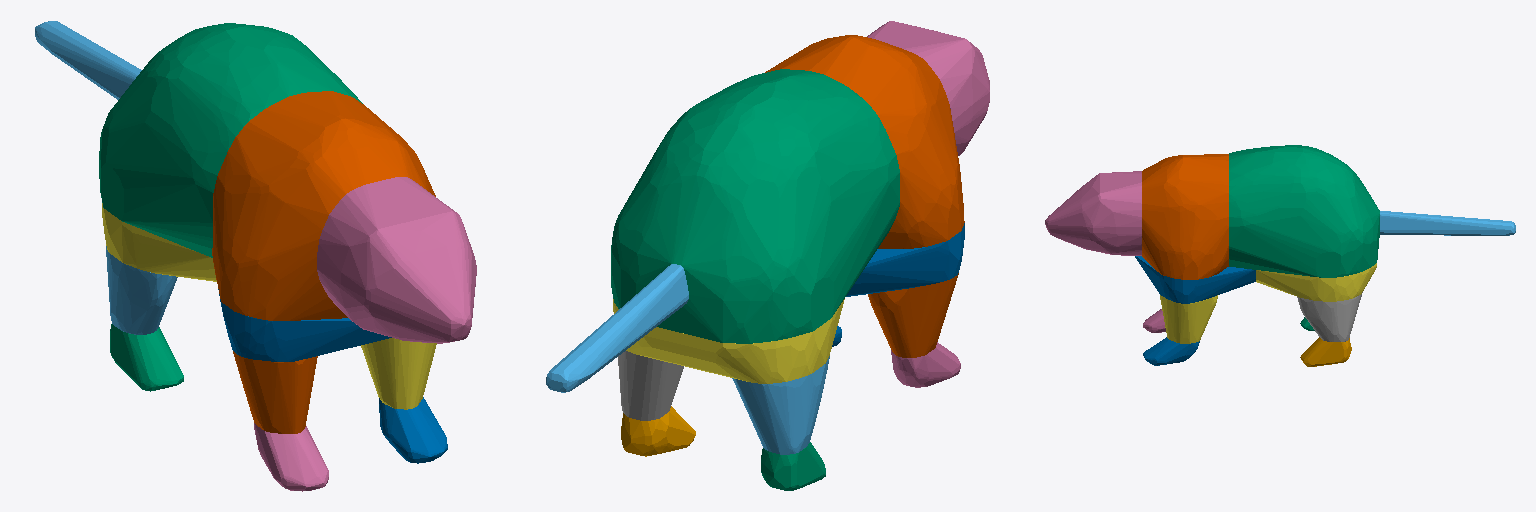
robot.urdf — sem-Bear-1629215db795111ba649bd1425725662:
<?xml version="1.0"?>
<robot name="sem-Bear-1629215db795111ba649bd1425725662">
  <link name="object_root"/>
  <link name="convex_piece_000">
    <visual><geometry><mesh filename="pieces/piece_000.obj"/></geometry></visual>
    <collision><geometry><mesh filename="pieces/piece_000.obj"/></geometry></collision>
  </link>
  <joint name="piece_joint_000" type="fixed">
    <parent link="object_root"/>
    <child link="convex_piece_000"/>
    <origin xyz="0 0 0" rpy="0 0 0"/>
  </joint>
  <link name="convex_piece_001">
    <visual><geometry><mesh filename="pieces/piece_001.obj"/></geometry></visual>
    <collision><geometry><mesh filename="pieces/piece_001.obj"/></geometry></collision>
  </link>
  <joint name="piece_joint_001" type="fixed">
    <parent link="object_root"/>
    <child link="convex_piece_001"/>
    <origin xyz="0 0 0" rpy="0 0 0"/>
  </joint>
  <link name="convex_piece_002">
    <visual><geometry><mesh filename="pieces/piece_002.obj"/></geometry></visual>
    <collision><geometry><mesh filename="pieces/piece_002.obj"/></geometry></collision>
  </link>
  <joint name="piece_joint_002" type="fixed">
    <parent link="object_root"/>
    <child link="convex_piece_002"/>
    <origin xyz="0 0 0" rpy="0 0 0"/>
  </joint>
  <link name="convex_piece_003">
    <visual><geometry><mesh filename="pieces/piece_003.obj"/></geometry></visual>
    <collision><geometry><mesh filename="pieces/piece_003.obj"/></geometry></collision>
  </link>
  <joint name="piece_joint_003" type="fixed">
    <parent link="object_root"/>
    <child link="convex_piece_003"/>
    <origin xyz="0 0 0" rpy="0 0 0"/>
  </joint>
  <link name="convex_piece_004">
    <visual><geometry><mesh filename="pieces/piece_004.obj"/></geometry></visual>
    <collision><geometry><mesh filename="pieces/piece_004.obj"/></geometry></collision>
  </link>
  <joint name="piece_joint_004" type="fixed">
    <parent link="object_root"/>
    <child link="convex_piece_004"/>
    <origin xyz="0 0 0" rpy="0 0 0"/>
  </joint>
  <link name="convex_piece_005">
    <visual><geometry><mesh filename="pieces/piece_005.obj"/></geometry></visual>
    <collision><geometry><mesh filename="pieces/piece_005.obj"/></geometry></collision>
  </link>
  <joint name="piece_joint_005" type="fixed">
    <parent link="object_root"/>
    <child link="convex_piece_005"/>
    <origin xyz="0 0 0" rpy="0 0 0"/>
  </joint>
  <link name="convex_piece_006">
    <visual><geometry><mesh filename="pieces/piece_006.obj"/></geometry></visual>
    <collision><geometry><mesh filename="pieces/piece_006.obj"/></geometry></collision>
  </link>
  <joint name="piece_joint_006" type="fixed">
    <parent link="object_root"/>
    <child link="convex_piece_006"/>
    <origin xyz="0 0 0" rpy="0 0 0"/>
  </joint>
  <link name="convex_piece_007">
    <visual><geometry><mesh filename="pieces/piece_007.obj"/></geometry></visual>
    <collision><geometry><mesh filename="pieces/piece_007.obj"/></geometry></collision>
  </link>
  <joint name="piece_joint_007" type="fixed">
    <parent link="object_root"/>
    <child link="convex_piece_007"/>
    <origin xyz="0 0 0" rpy="0 0 0"/>
  </joint>
  <link name="convex_piece_008">
    <visual><geometry><mesh filename="pieces/piece_008.obj"/></geometry></visual>
    <collision><geometry><mesh filename="pieces/piece_008.obj"/></geometry></collision>
  </link>
  <joint name="piece_joint_008" type="fixed">
    <parent link="object_root"/>
    <child link="convex_piece_008"/>
    <origin xyz="0 0 0" rpy="0 0 0"/>
  </joint>
  <link name="convex_piece_009">
    <visual><geometry><mesh filename="pieces/piece_009.obj"/></geometry></visual>
    <collision><geometry><mesh filename="pieces/piece_009.obj"/></geometry></collision>
  </link>
  <joint name="piece_joint_009" type="fixed">
    <parent link="object_root"/>
    <child link="convex_piece_009"/>
    <origin xyz="0 0 0" rpy="0 0 0"/>
  </joint>
  <link name="convex_piece_010">
    <visual><geometry><mesh filename="pieces/piece_010.obj"/></geometry></visual>
    <collision><geometry><mesh filename="pieces/piece_010.obj"/></geometry></collision>
  </link>
  <joint name="piece_joint_010" type="fixed">
    <parent link="object_root"/>
    <child link="convex_piece_010"/>
    <origin xyz="0 0 0" rpy="0 0 0"/>
  </joint>
  <link name="convex_piece_011">
    <visual><geometry><mesh filename="pieces/piece_011.obj"/></geometry></visual>
    <collision><geometry><mesh filename="pieces/piece_011.obj"/></geometry></collision>
  </link>
  <joint name="piece_joint_011" type="fixed">
    <parent link="object_root"/>
    <child link="convex_piece_011"/>
    <origin xyz="0 0 0" rpy="0 0 0"/>
  </joint>
  <link name="convex_piece_012">
    <visual><geometry><mesh filename="pieces/piece_012.obj"/></geometry></visual>
    <collision><geometry><mesh filename="pieces/piece_012.obj"/></geometry></collision>
  </link>
  <joint name="piece_joint_012" type="fixed">
    <parent link="object_root"/>
    <child link="convex_piece_012"/>
    <origin xyz="0 0 0" rpy="0 0 0"/>
  </joint>
  <link name="convex_piece_013">
    <visual><geometry><mesh filename="pieces/piece_013.obj"/></geometry></visual>
    <collision><geometry><mesh filename="pieces/piece_013.obj"/></geometry></collision>
  </link>
  <joint name="piece_joint_013" type="fixed">
    <parent link="object_root"/>
    <child link="convex_piece_013"/>
    <origin xyz="0 0 0" rpy="0 0 0"/>
  </joint>
</robot>

--- What the picture shows (computed from the rendered views, not written in the file) ---
The picture shows the robot from 3 angles, left to right: view 1: azimuth 30°, elevation 25°; view 2: azimuth 150°, elevation 25°; view 3: azimuth 270°, elevation 25°; orthographic projection.
Model sem-Bear-1629215db795111ba649bd1425725662 with 15 links and 14 joints (14 fixed), rooted at object_root, posed every joint at zero.
Links seen in each view (by area): view 1: convex_piece_004, convex_piece_001, convex_piece_005, convex_piece_003, convex_piece_012, convex_piece_002, convex_piece_010, convex_piece_008, convex_piece_000, convex_piece_013, convex_piece_009, convex_piece_011; view 2: convex_piece_001, convex_piece_004, convex_piece_002, convex_piece_000, convex_piece_005, convex_piece_008, convex_piece_012, convex_piece_003, convex_piece_006, convex_piece_007, convex_piece_009, convex_piece_013; view 3: convex_piece_001, convex_piece_004, convex_piece_005, convex_piece_000, convex_piece_002, convex_piece_003, convex_piece_006, convex_piece_010, convex_piece_007, convex_piece_011.
Boxes of the visible links, box(x1,y1,x2,y2) form: convex_piece_004: box(212, 91, 435, 320); convex_piece_001: box(99, 23, 362, 257); convex_piece_005: box(317, 177, 476, 343); convex_piece_003: box(218, 289, 391, 361); convex_piece_012: box(233, 351, 317, 433); convex_piece_002: box(102, 203, 216, 281); convex_piece_010: box(361, 338, 436, 409); convex_piece_008: box(106, 246, 177, 334); convex_piece_000: box(35, 21, 141, 99); convex_piece_013: box(254, 423, 328, 491); convex_piece_009: box(110, 324, 183, 391); convex_piece_011: box(379, 397, 447, 463); convex_piece_001: box(611, 69, 899, 343); convex_piece_004: box(765, 35, 964, 248); convex_piece_002: box(613, 299, 844, 383); convex_piece_000: box(546, 264, 688, 392); convex_piece_005: box(867, 21, 989, 155); convex_piece_008: box(732, 356, 829, 454); convex_piece_012: box(868, 273, 958, 357); convex_piece_003: box(846, 223, 964, 296); convex_piece_006: box(618, 351, 683, 420); convex_piece_007: box(621, 406, 695, 456); convex_piece_009: box(761, 442, 825, 490); convex_piece_013: box(891, 342, 960, 387); convex_piece_001: box(1229, 145, 1379, 277); convex_piece_004: box(1142, 154, 1228, 279); convex_piece_005: box(1045, 171, 1141, 255); convex_piece_000: box(1380, 211, 1515, 235); convex_piece_002: box(1256, 263, 1376, 301); convex_piece_003: box(1135, 256, 1255, 303); convex_piece_006: box(1297, 292, 1362, 341); convex_piece_010: box(1160, 295, 1217, 343); convex_piece_007: box(1300, 337, 1351, 366); convex_piece_011: box(1143, 337, 1199, 365).
Size in the robot's own frame: 0.0571 by 0.1947 by 0.0889 metres.
14 mesh visuals loaded from 14 distinct referenced files (14 OBJ).
